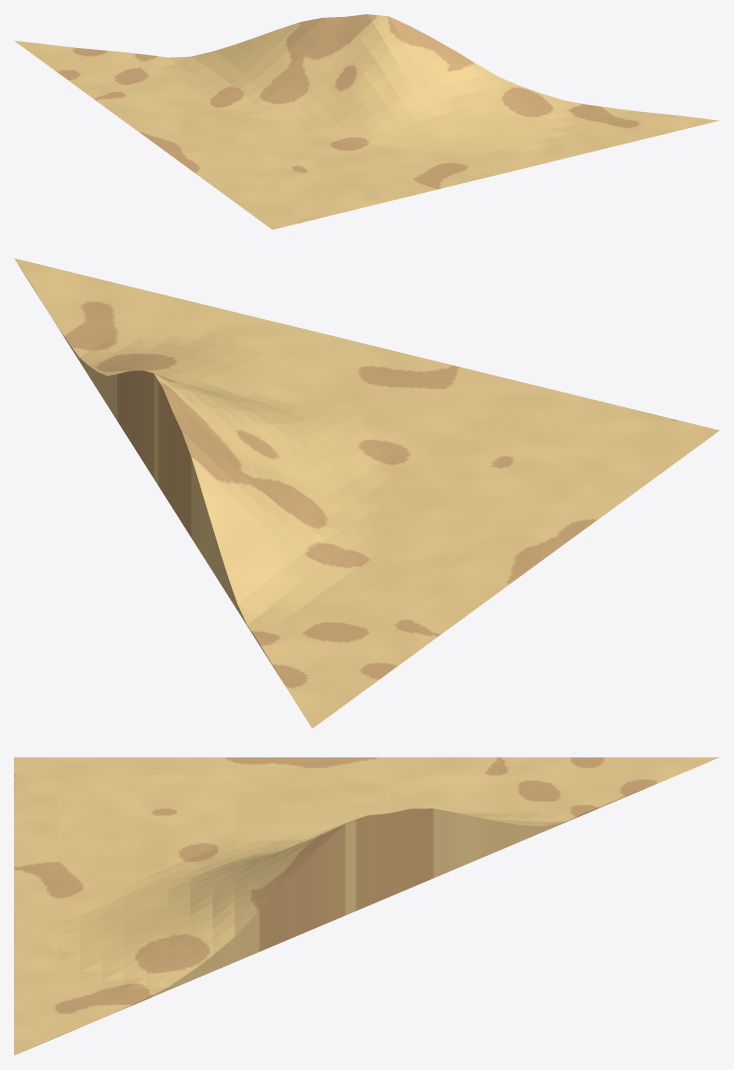
The model's file is Desert_Mountains_05_NW.obj.
The picture shows the model from 3 angles, top to bottom: view 1: azimuth 30°, elevation 25°; view 2: azimuth 150°, elevation 25°; view 3: azimuth 270°, elevation 25°; orthographic projection. The views are drawn at different scales.
Size of the model in its own units: 10 by 1.43 by 10.
1 material, 1 textured.
